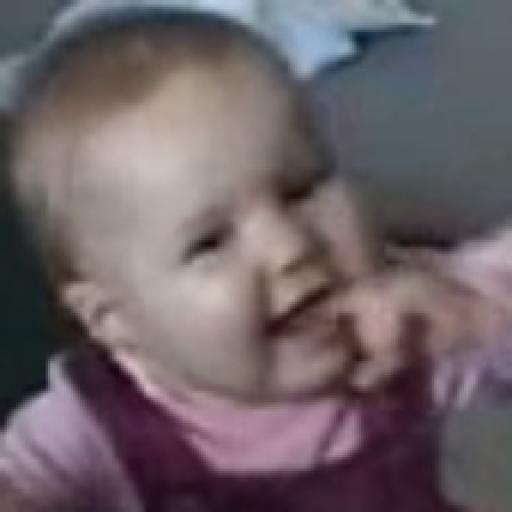Autism: (31, 40, 503, 442)
